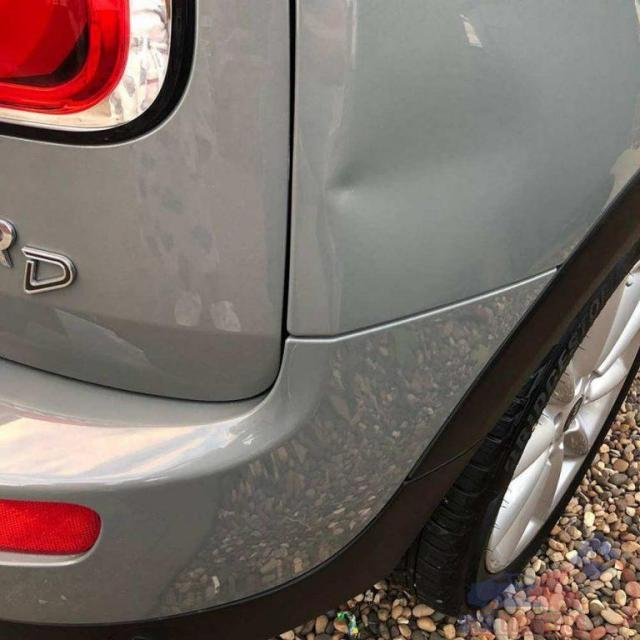dent: (325, 159, 375, 206)
